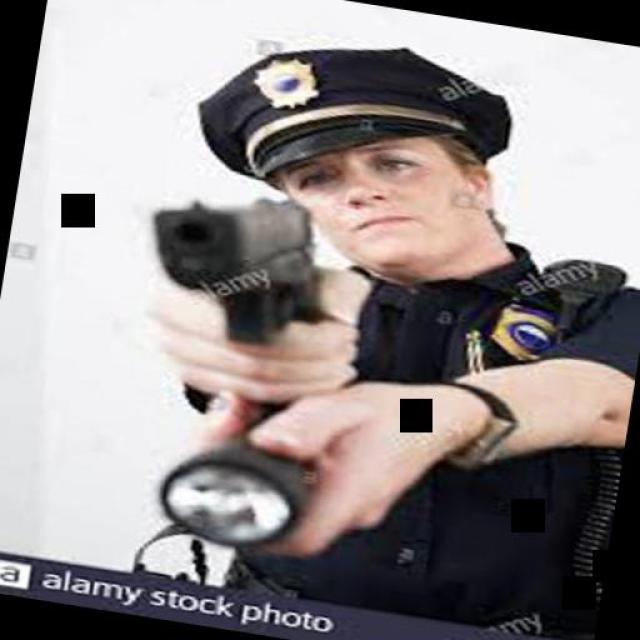gun: (118, 168, 348, 368)
